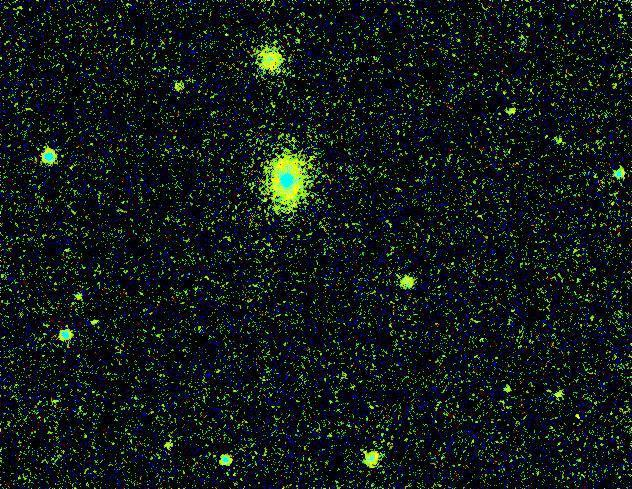star: (543, 379, 573, 409)
